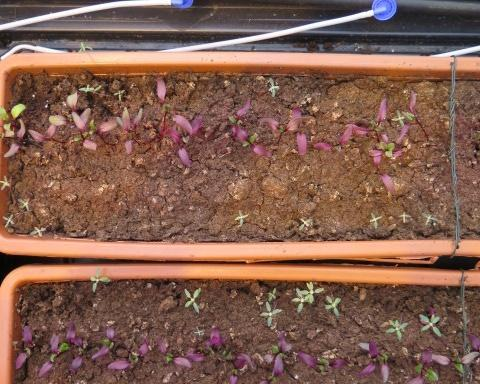weed: (256, 299, 283, 328), (381, 316, 407, 341), (181, 286, 202, 313), (322, 292, 342, 317), (262, 75, 280, 98), (418, 207, 439, 225), (231, 207, 249, 227), (366, 209, 383, 229), (394, 208, 414, 224), (26, 224, 45, 239), (16, 195, 33, 211), (0, 212, 15, 228), (265, 286, 276, 300)
